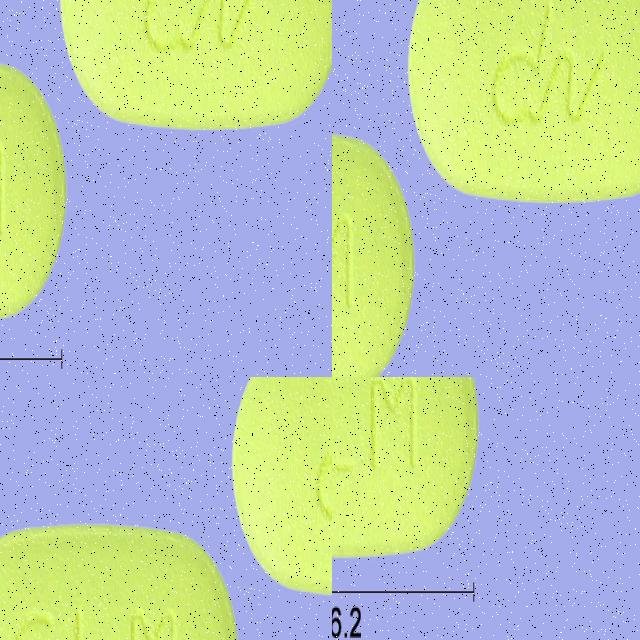Ciplus: (0, 377, 206, 640), (236, 377, 332, 640)
Clamicin: (332, 377, 480, 563)
Clarid - 500mg: (0, 139, 176, 377)
Clathro: (399, 0, 640, 200), (332, 114, 432, 377)
